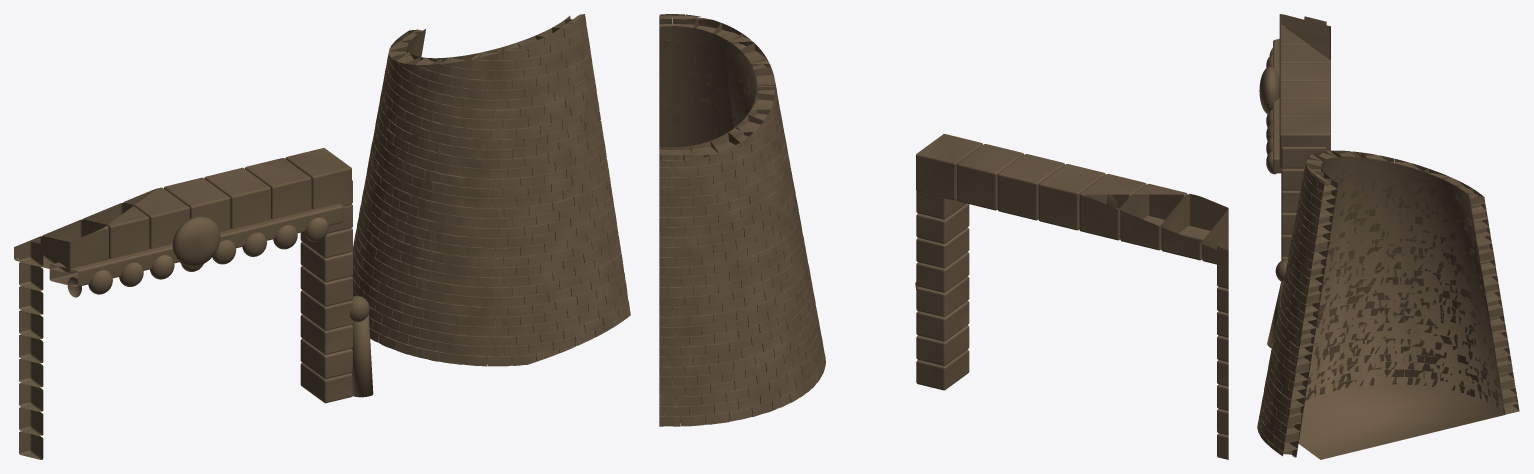
The model's file is temple01.glb.
The picture shows the model from 3 angles, left to right: view 1: azimuth 30°, elevation 25°; view 2: azimuth 150°, elevation 25°; view 3: azimuth 270°, elevation 25°; orthographic projection. The views are drawn at different scales.
Visible parts, largest first — view 1: TEMPLE01_original_v5; view 2: TEMPLE01_original_v5; view 3: TEMPLE01_original_v5.
Boxes of the visible parts, x1,y1,x2,y2 form: TEMPLE01_original_v5: (14, 14, 630, 459); TEMPLE01_original_v5: (659, 14, 1228, 459); TEMPLE01_original_v5: (1257, 14, 1519, 459).
Size of the model in its own units: 9.2 by 4.53 by 3.89.
